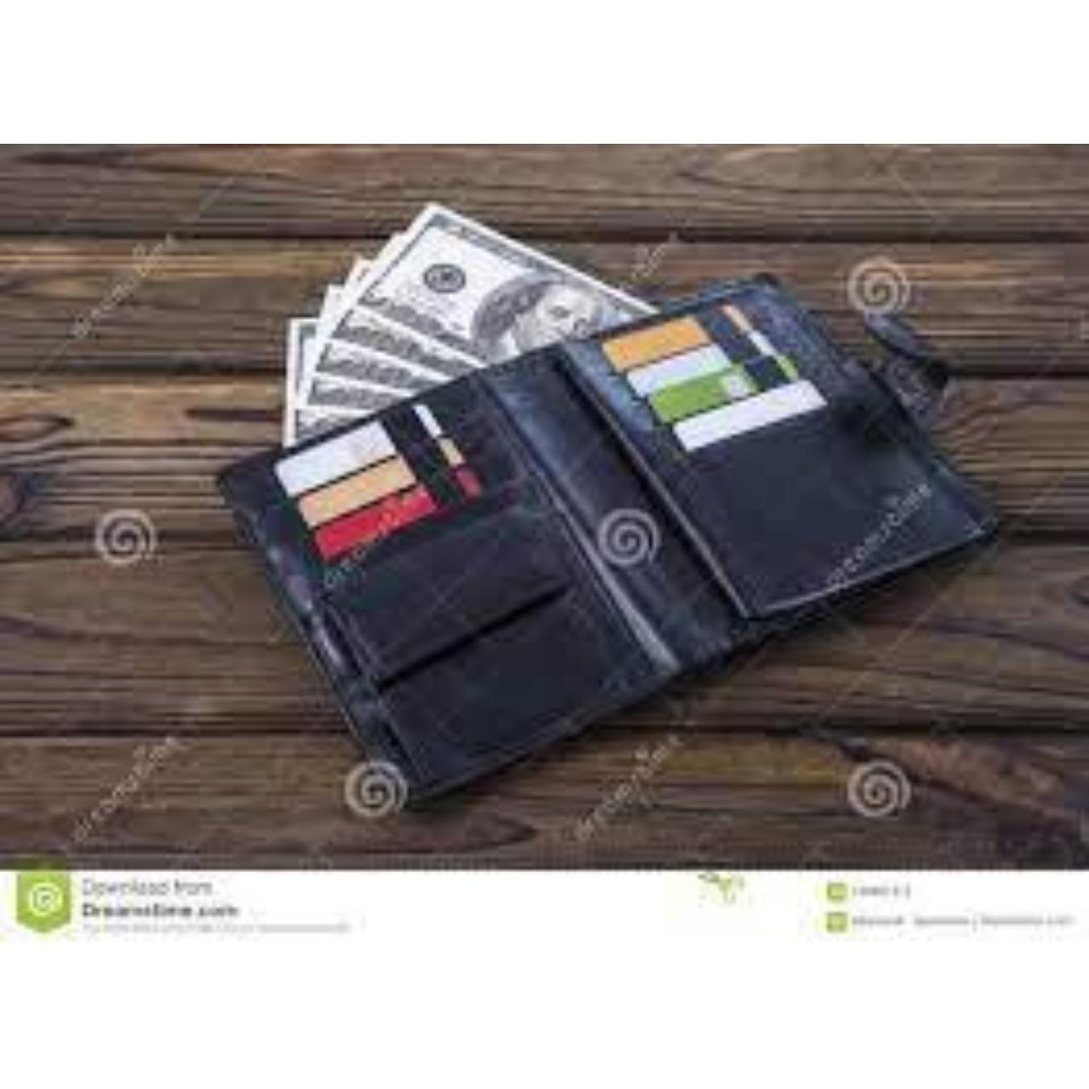wallet: (210, 266, 1041, 794)
